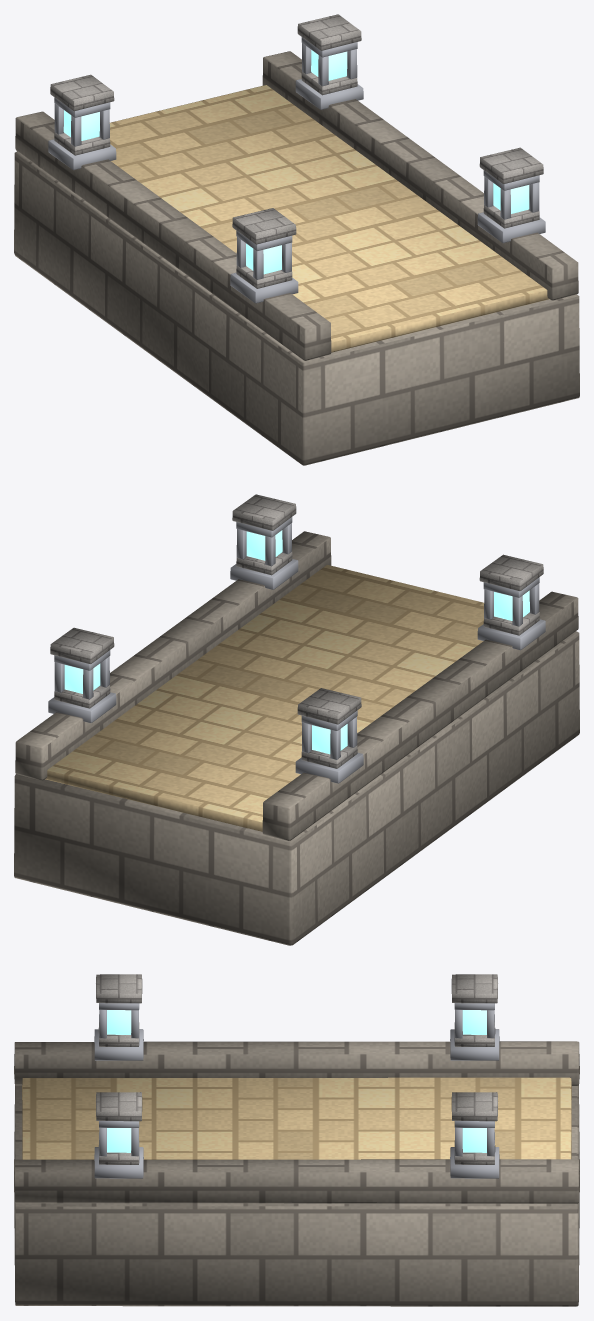
File: OBJ32_north_straight_causeway.glb
3 views of the same model, one above another, from view 1: azimuth 30°, elevation 25°; view 2: azimuth 150°, elevation 25°; view 3: azimuth 270°, elevation 25° (orthographic). The views are drawn at different scales.
Visible parts, largest first — view 1: BridgeBody, PavedDeck, Parapet_-1, Parapet_1, TopCap3, TopCap, TopCap2, TopCap4, BasePlinth2, BasePlinth4, BasePlinth3, BasePlinth (+8 smaller); view 2: BridgeBody, PavedDeck, Parapet_-1, Parapet_1, TopCap4, TopCap, TopCap2, TopCap3, BasePlinth4, BasePlinth2, BasePlinth, BasePlinth3 (+8 smaller); view 3: BridgeBody, PavedDeck, Parapet_1, Parapet_-1, TopCap, TopCap2, TopCap3, TopCap4, BasePlinth3, BasePlinth4, BasePlinth, BasePlinth2 (+8 smaller).
Part boxes in pixels (<box>): BridgeBody: <box>14,151,579,465</box>; PavedDeck: <box>109,85,549,352</box>; Parapet_-1: <box>15,111,331,360</box>; Parapet_1: <box>262,51,578,300</box>; TopCap3: <box>297,14,361,50</box>; TopCap: <box>50,74,114,111</box>; TopCap2: <box>232,208,296,244</box>; TopCap4: <box>479,147,543,183</box>; BasePlinth2: <box>230,272,298,303</box>; BasePlinth4: <box>477,212,545,243</box>; BasePlinth3: <box>295,79,363,109</box>; BasePlinth: <box>48,139,116,170</box>; BridgeBody: <box>14,631,579,945</box>; PavedDeck: <box>45,564,484,831</box>; Parapet_-1: <box>262,591,578,840</box>; Parapet_1: <box>15,531,331,780</box>; TopCap4: <box>232,494,296,530</box>; TopCap: <box>297,688,361,724</box>; TopCap2: <box>479,554,543,591</box>; TopCap3: <box>50,627,114,664</box>; BasePlinth4: <box>230,559,298,589</box>; BasePlinth2: <box>477,619,545,650</box>; BasePlinth: <box>295,752,363,783</box>; BasePlinth3: <box>48,692,116,722</box>; BridgeBody: <box>14,1085,579,1306</box>; PavedDeck: <box>22,1077,571,1159</box>; Parapet_1: <box>14,1159,579,1203</box>; Parapet_-1: <box>14,1041,579,1085</box>; TopCap: <box>451,974,497,1003</box>; TopCap2: <box>96,974,142,1003</box>; TopCap3: <box>451,1092,497,1121</box>; TopCap4: <box>96,1092,142,1121</box>; BasePlinth3: <box>450,1147,499,1178</box>; BasePlinth4: <box>94,1147,143,1178</box>; BasePlinth: <box>450,1029,499,1060</box>; BasePlinth2: <box>94,1029,143,1060</box>.
Size of the model in its own units: 1.62 by 1.09 by 2.8.
5 materials, 3 textured.
